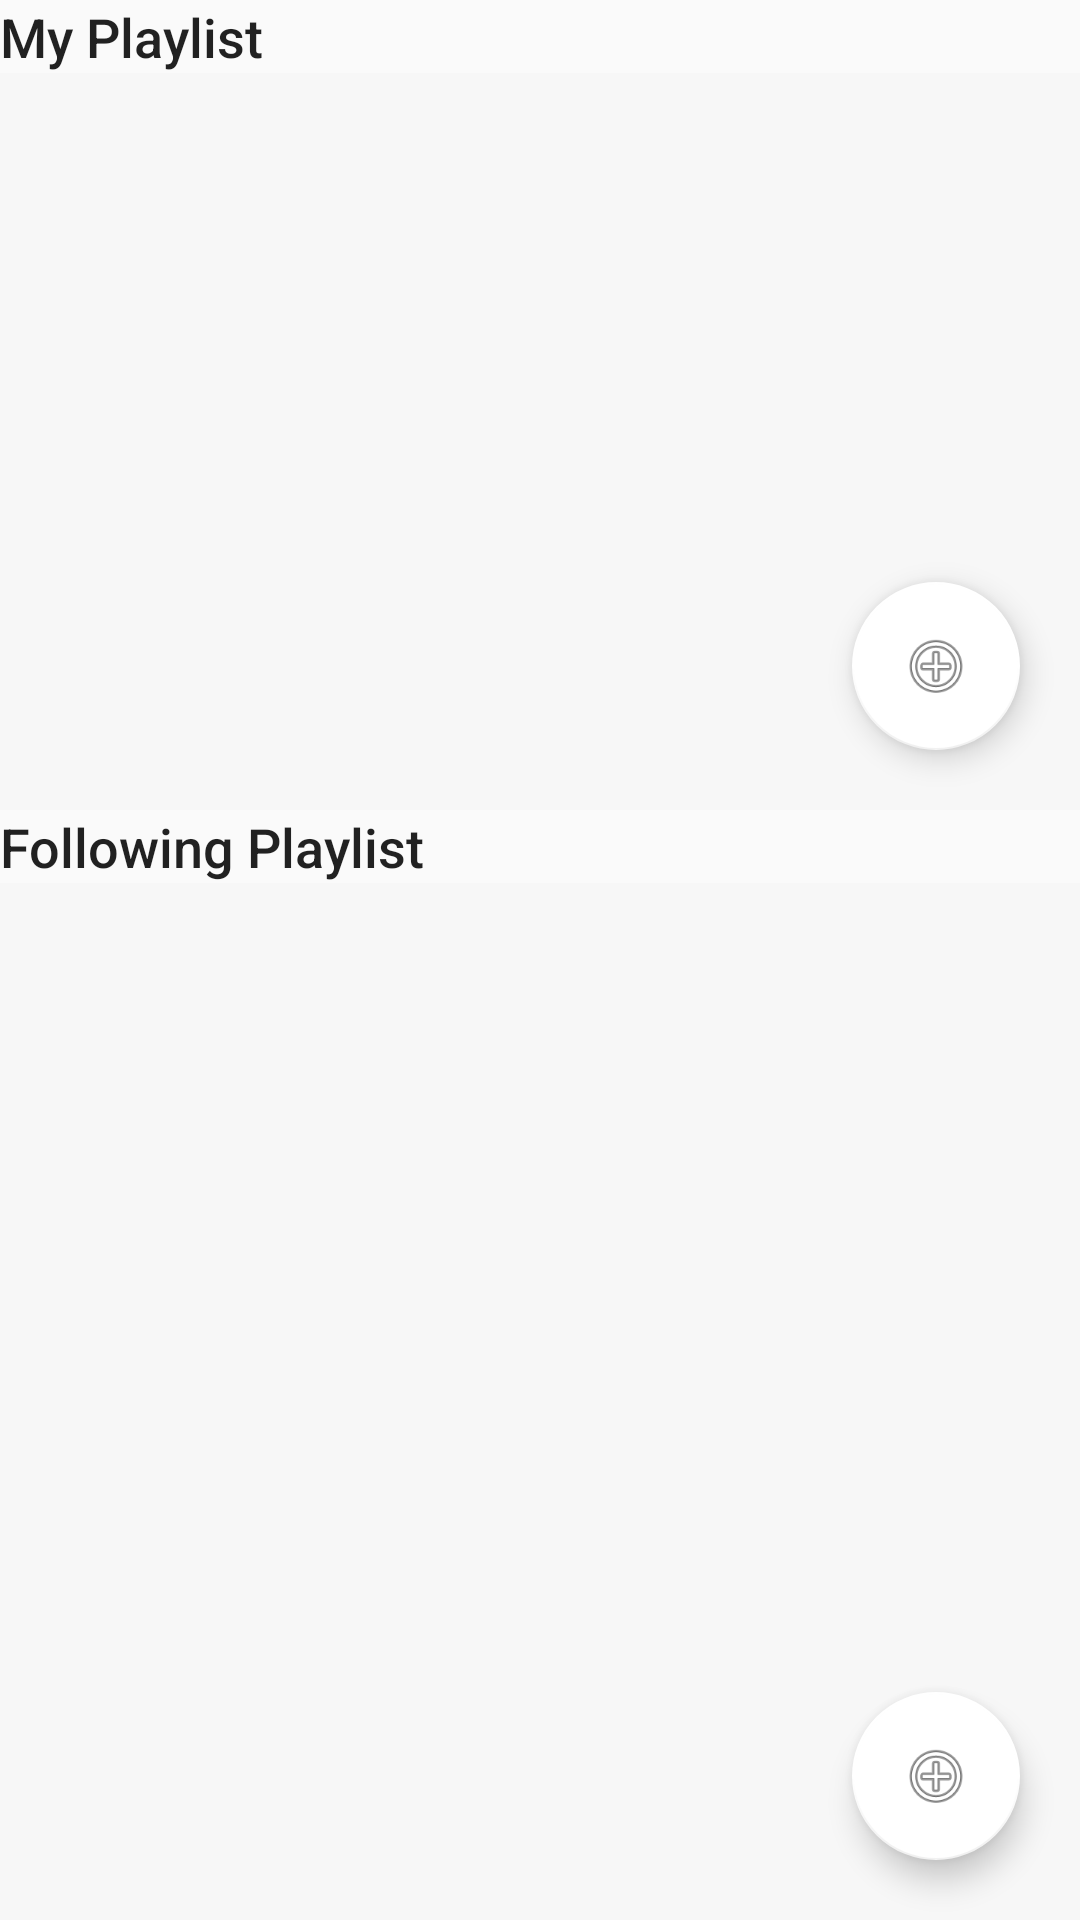

Icon bounding boxes for this 1080x1920 phone screenshot, format (x1, y1, x2, y2):
add: (852, 582, 1020, 750), (852, 1692, 1020, 1860)
